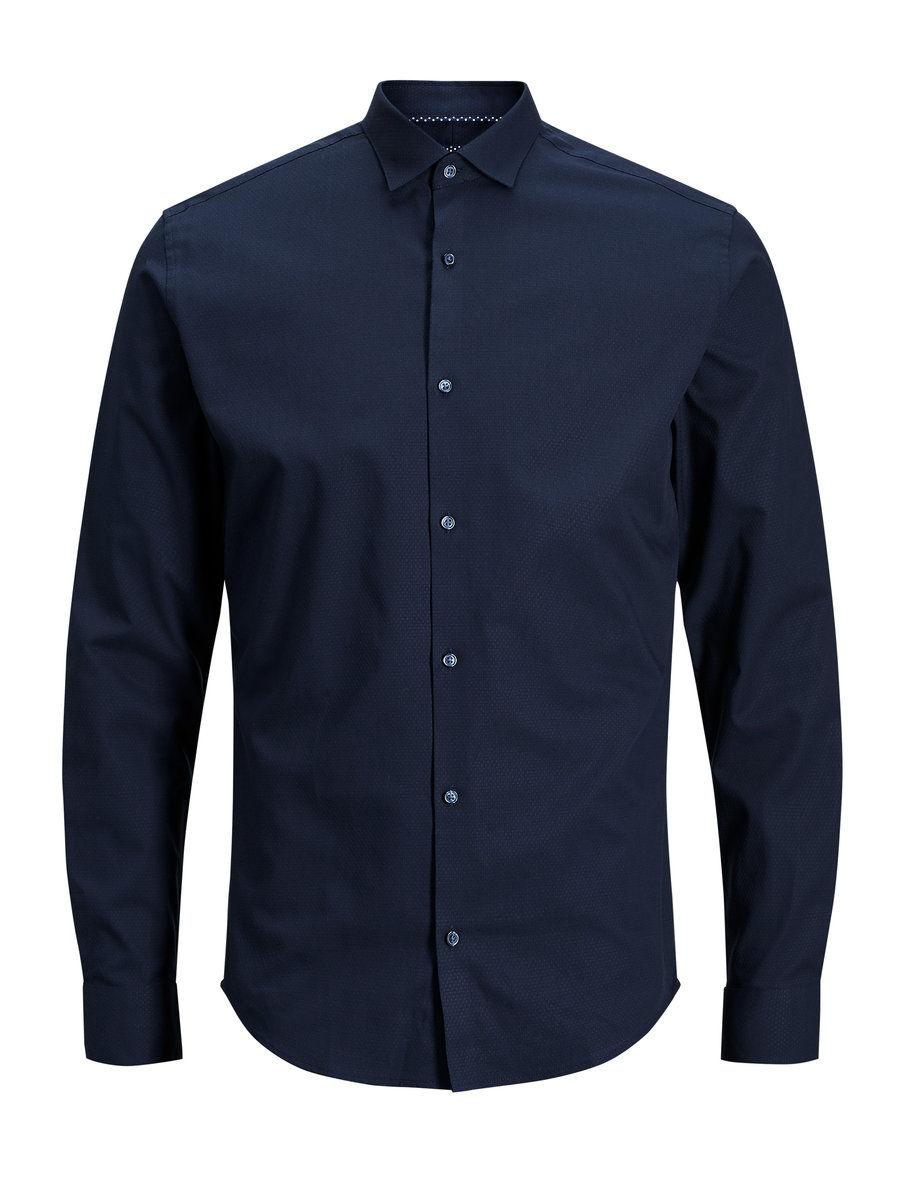teeshirt: (63, 63, 845, 1154)
